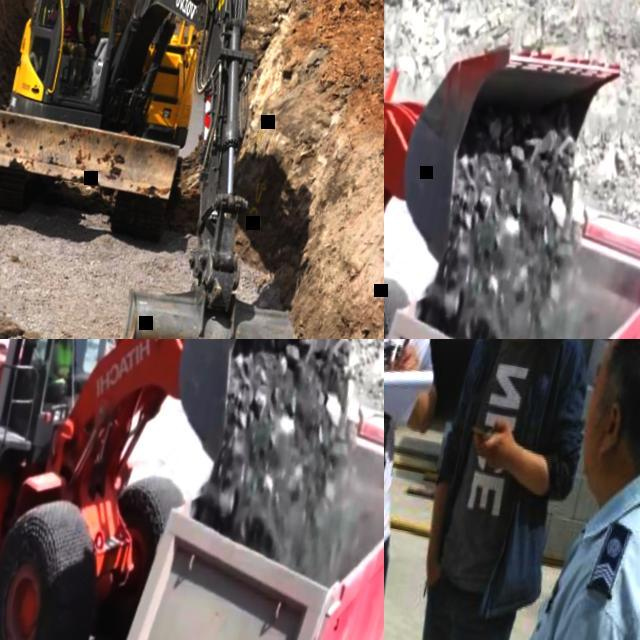vest: (50, 341, 76, 380), (72, 2, 91, 43)
